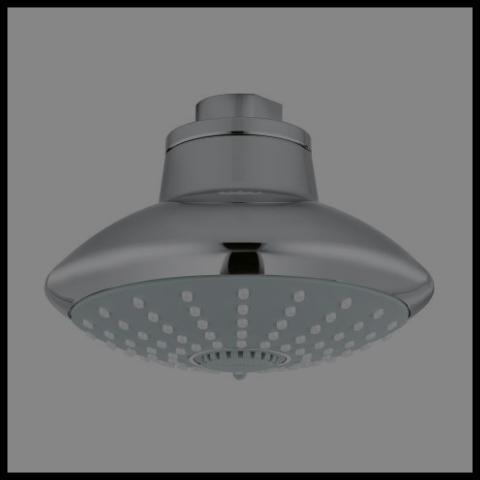Ducha: (49, 75, 435, 388)
